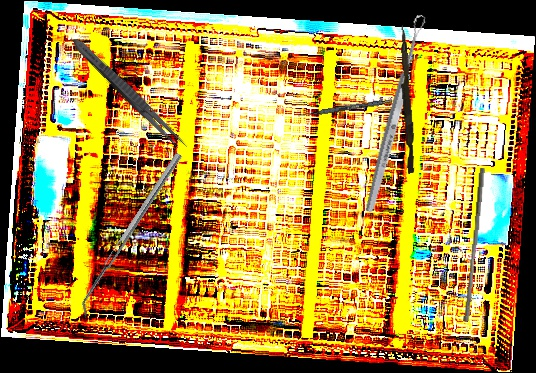Dressing Forceps: (68, 34, 191, 154)
Pusher: (395, 24, 418, 174), (463, 167, 485, 322)
Spatula Surgical: (73, 152, 189, 318), (297, 94, 410, 120)
Surgical Spoon: (362, 12, 429, 215)
